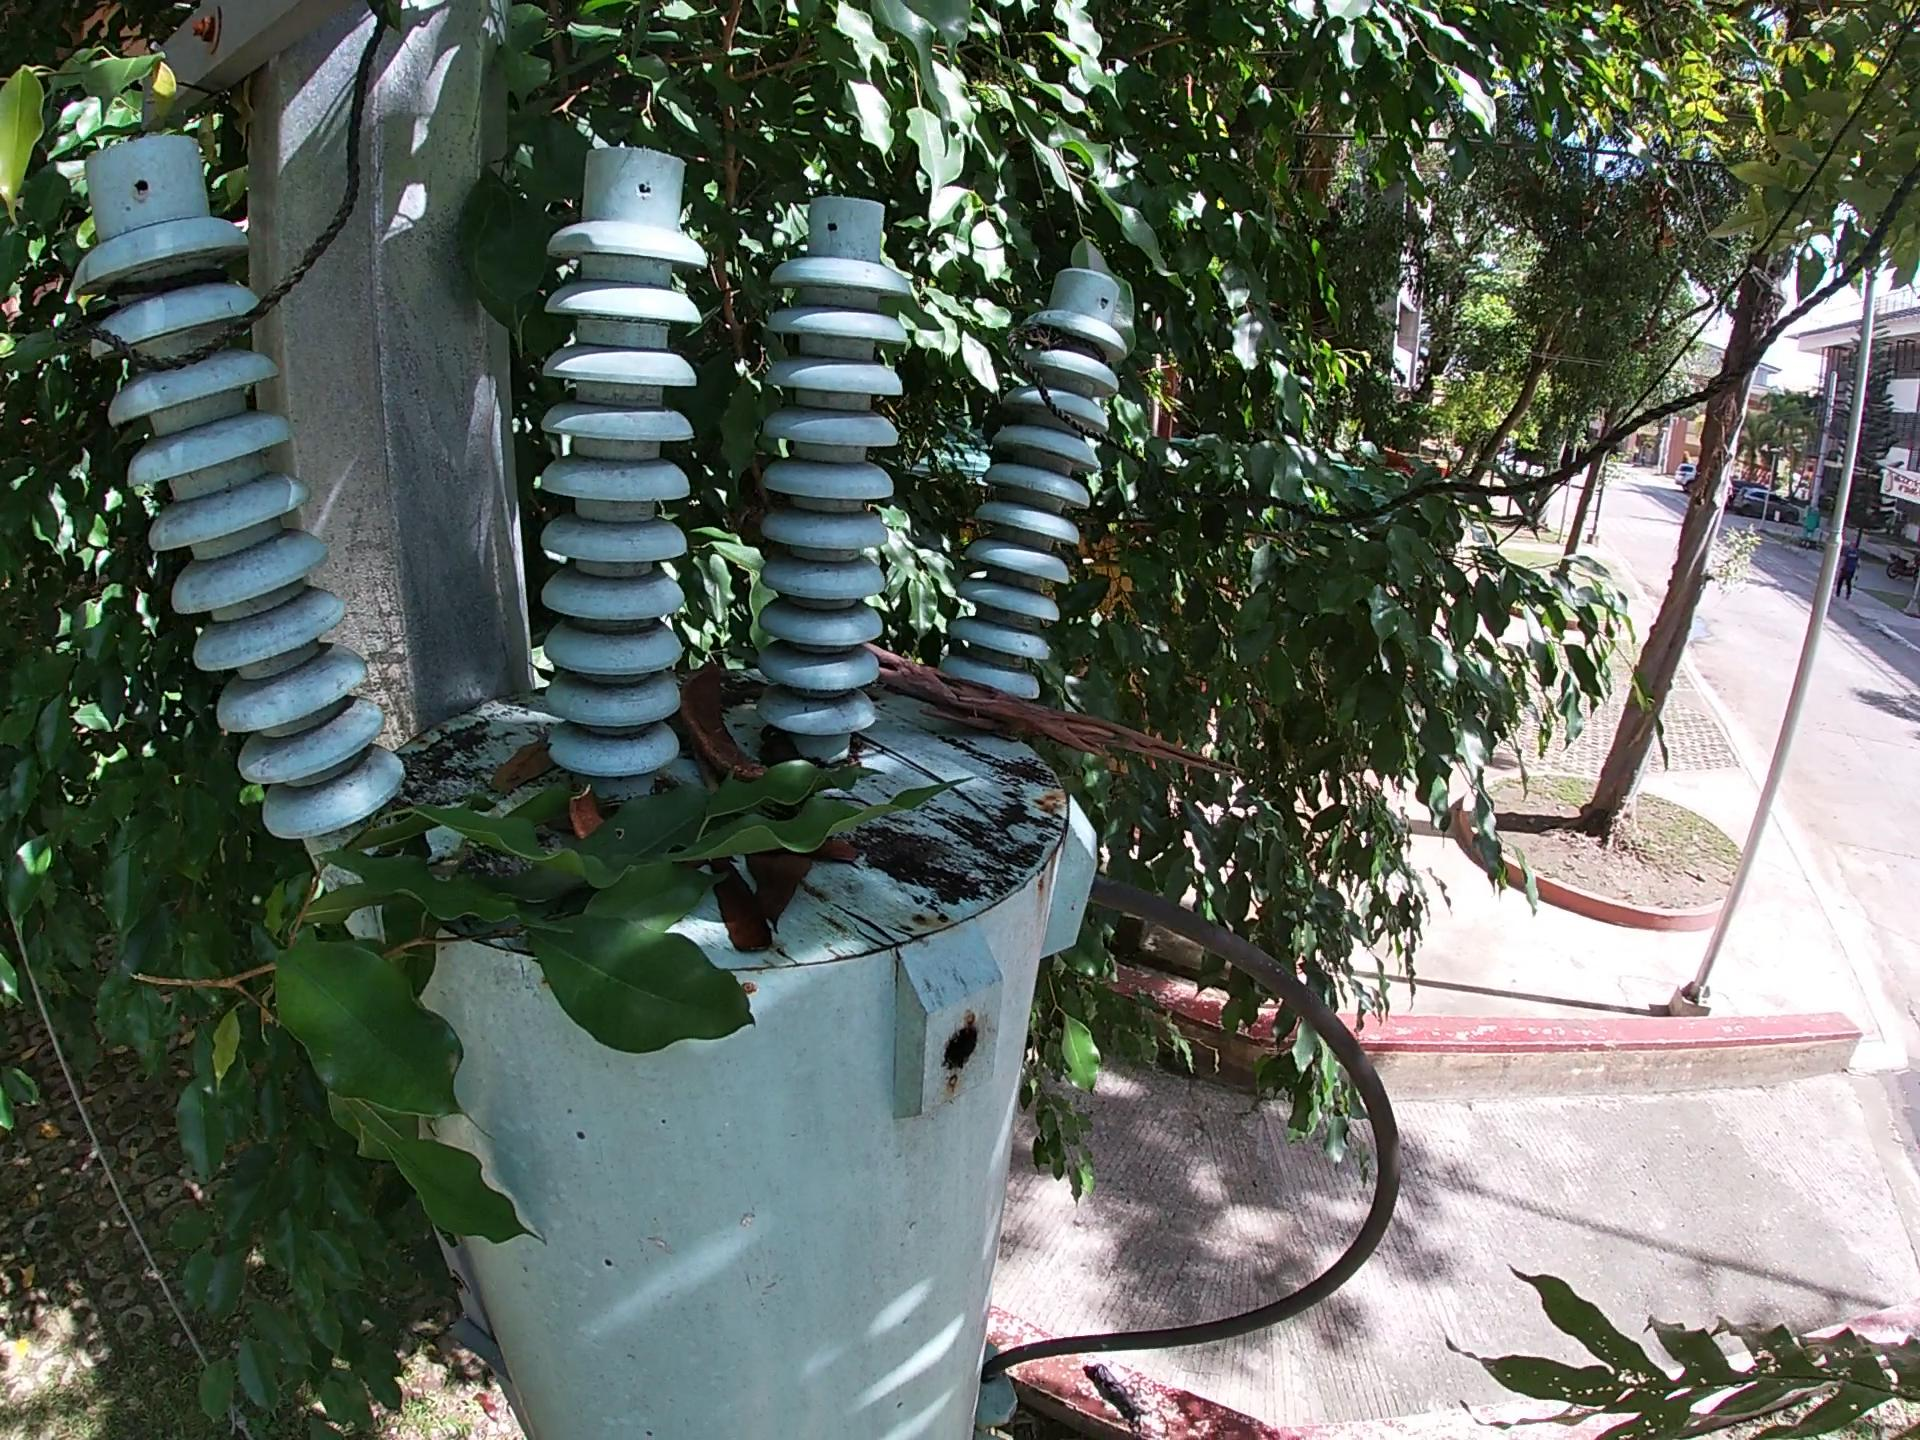branch with leaves: (122, 753, 980, 1263)
leaf: (701, 855, 777, 961), (741, 846, 819, 932), (485, 737, 561, 808), (816, 836, 869, 870)
mahogany fruit: (674, 663, 763, 781), (562, 785, 605, 838)
tree branch: (862, 640, 1255, 788)
